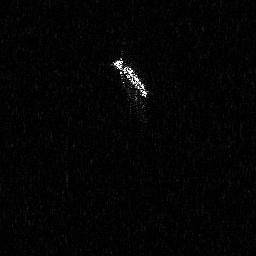ship: (111, 56, 149, 119)
